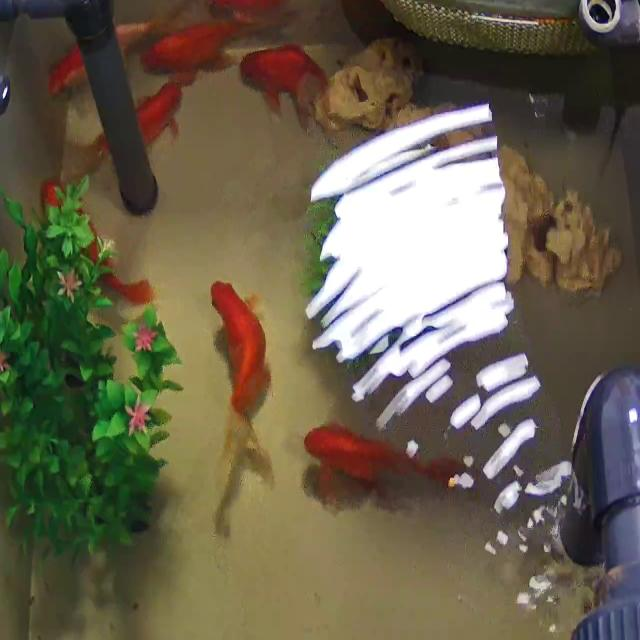fish: (205, 266, 279, 518), (33, 189, 164, 305), (294, 424, 460, 497), (240, 32, 333, 137), (38, 5, 124, 112), (111, 79, 192, 156), (138, 15, 236, 70)
